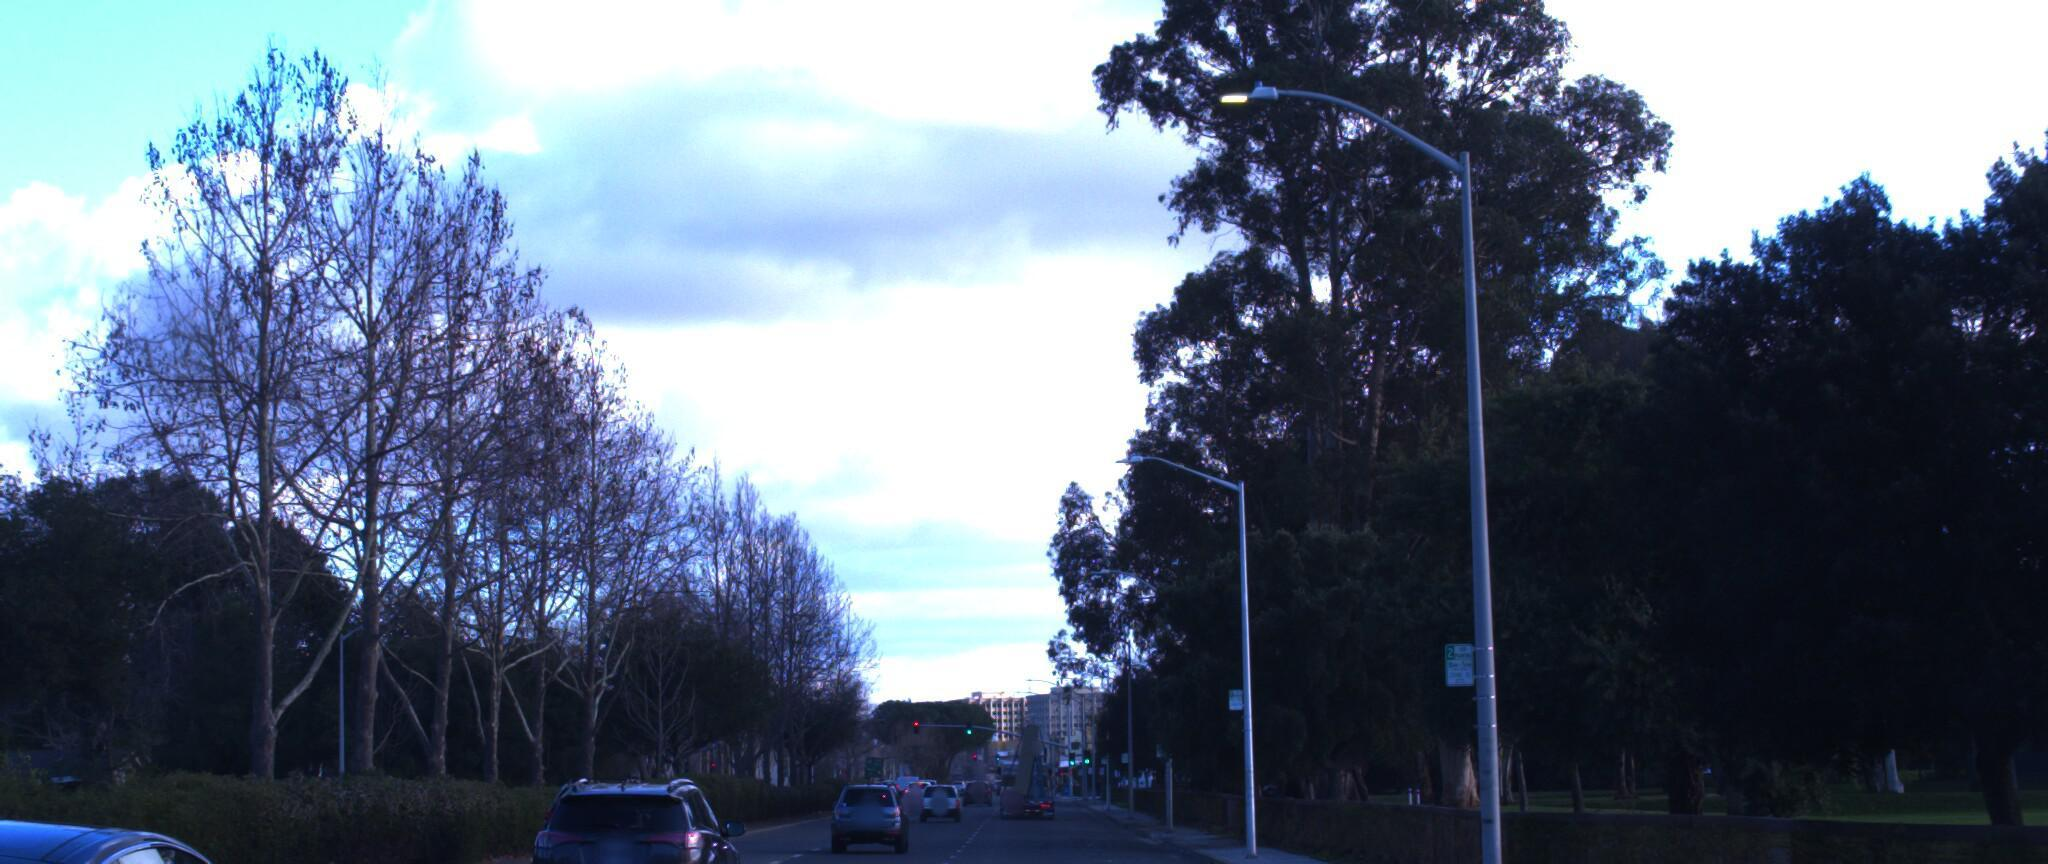car: (0, 794, 389, 864), (525, 765, 755, 864), (833, 767, 917, 834)
